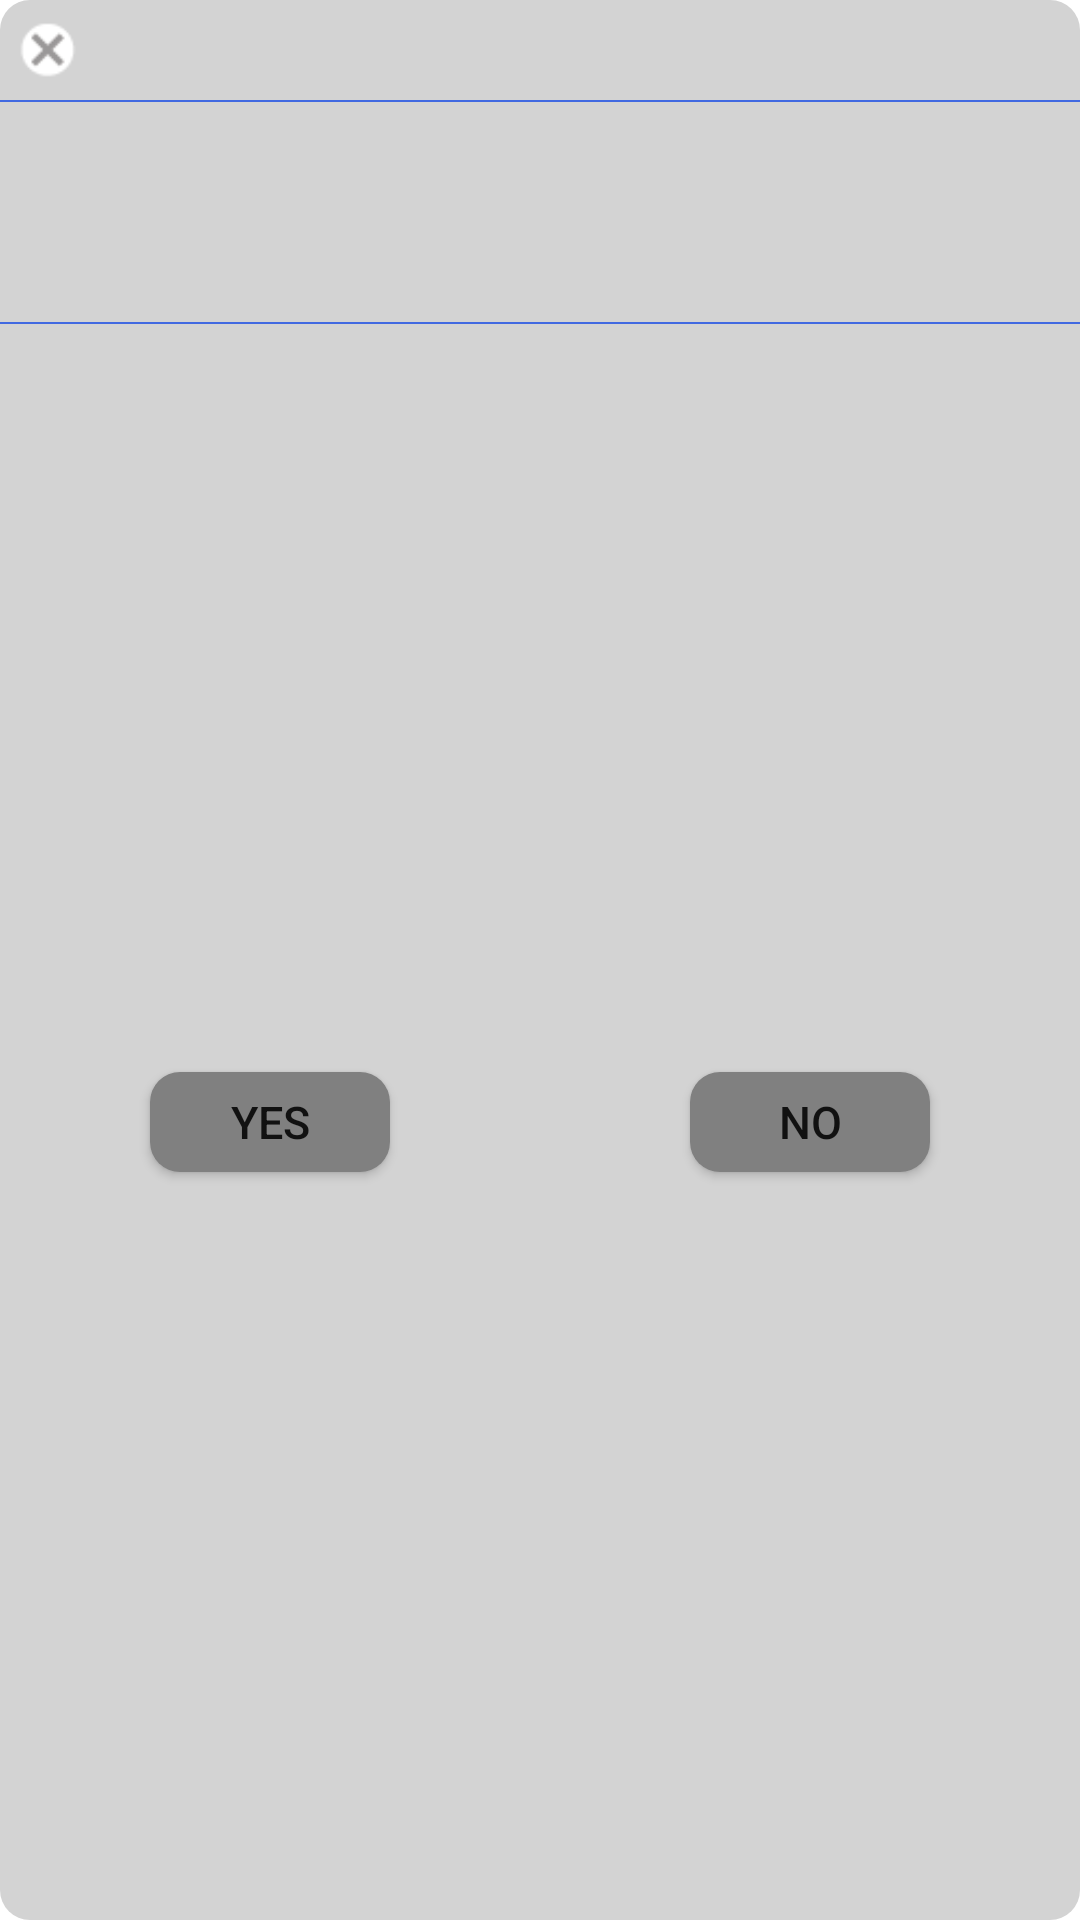

Icon bounding boxes for this 1080×1920 phone screenshot, format (x1, y1, x2, y2):
close poplist: (22, 24, 73, 76)
